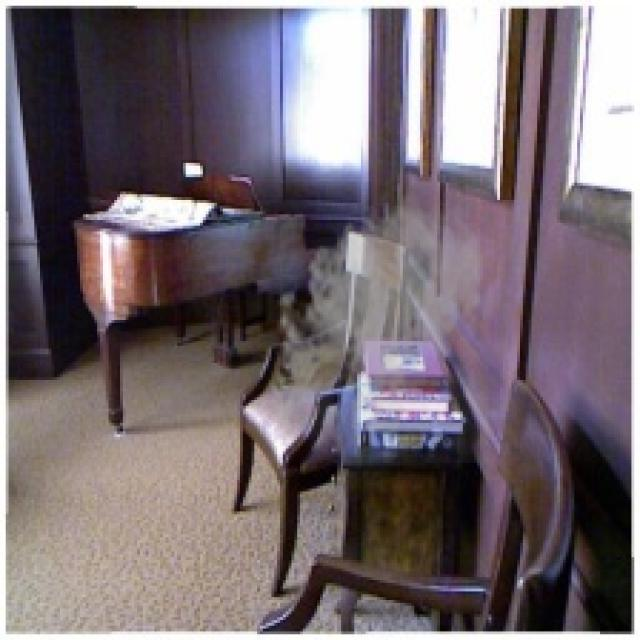smoke: (263, 186, 491, 463)
